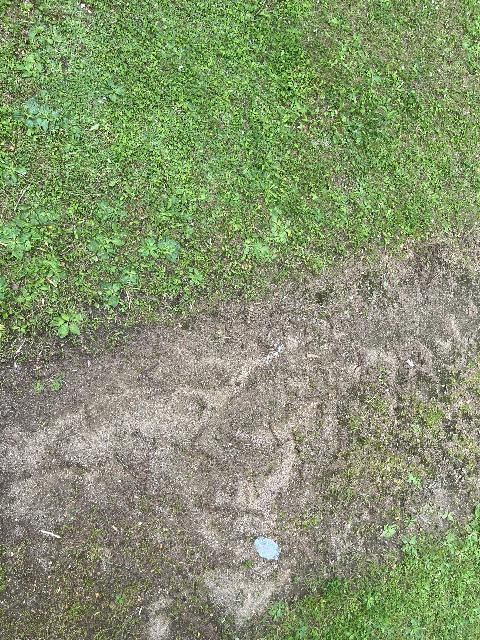plastic_bottle: (253, 537, 282, 563)
